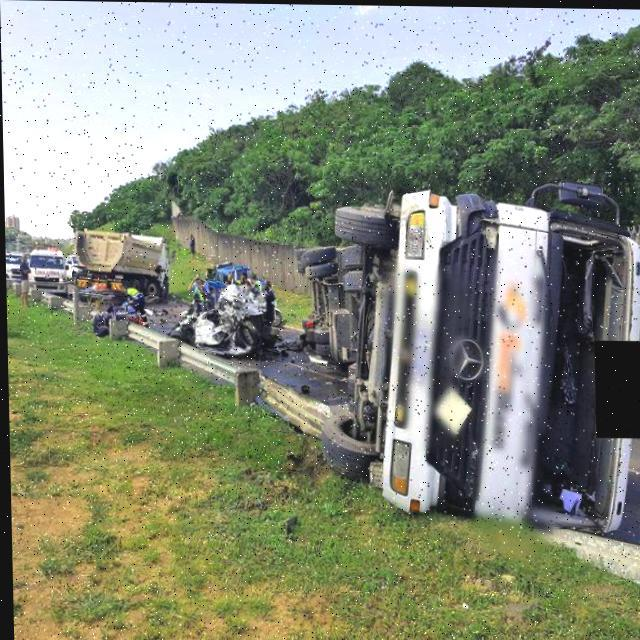multiple_accident: (326, 161, 635, 549), (65, 209, 318, 373)
